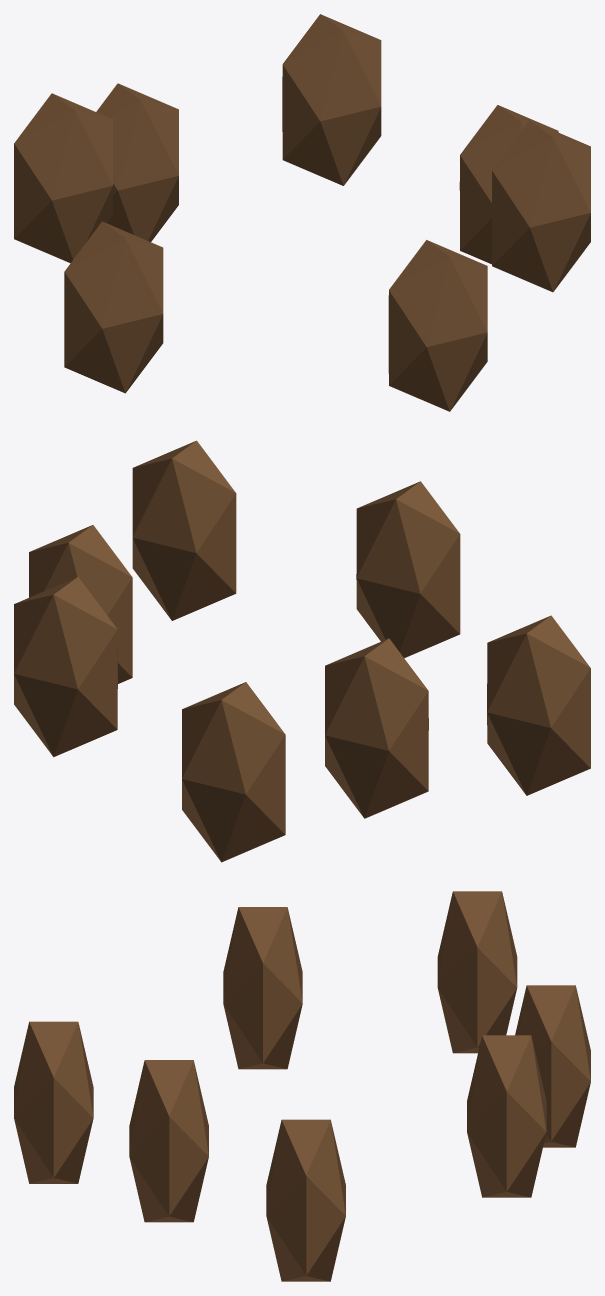
File: carrot_seeds.glb
The picture shows the model from 3 angles, top to bottom: view 1: azimuth 30°, elevation 25°; view 2: azimuth 150°, elevation 25°; view 3: azimuth 270°, elevation 25°; orthographic projection. The views are drawn at different scales.
Visible parts, largest first — view 1: carrot_seeds_Mesh; view 2: carrot_seeds_Mesh; view 3: carrot_seeds_Mesh.
Boxes of the visible parts, left/top/right/bottom form: carrot_seeds_Mesh: left=14, top=14, right=590, bottom=411; carrot_seeds_Mesh: left=14, top=440, right=590, bottom=862; carrot_seeds_Mesh: left=14, top=891, right=590, bottom=1281.
Bounding box in the file's own units: 0.1597 × 0.0579 × 0.148.
